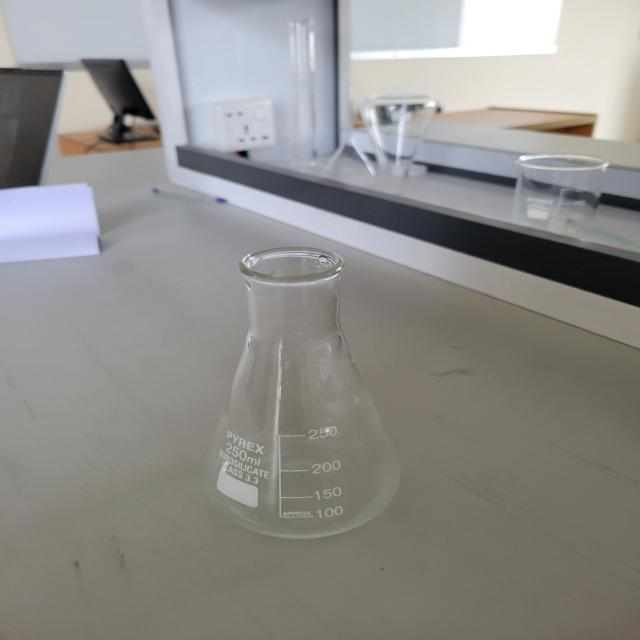Conical_Flask: (138, 230, 438, 578)
